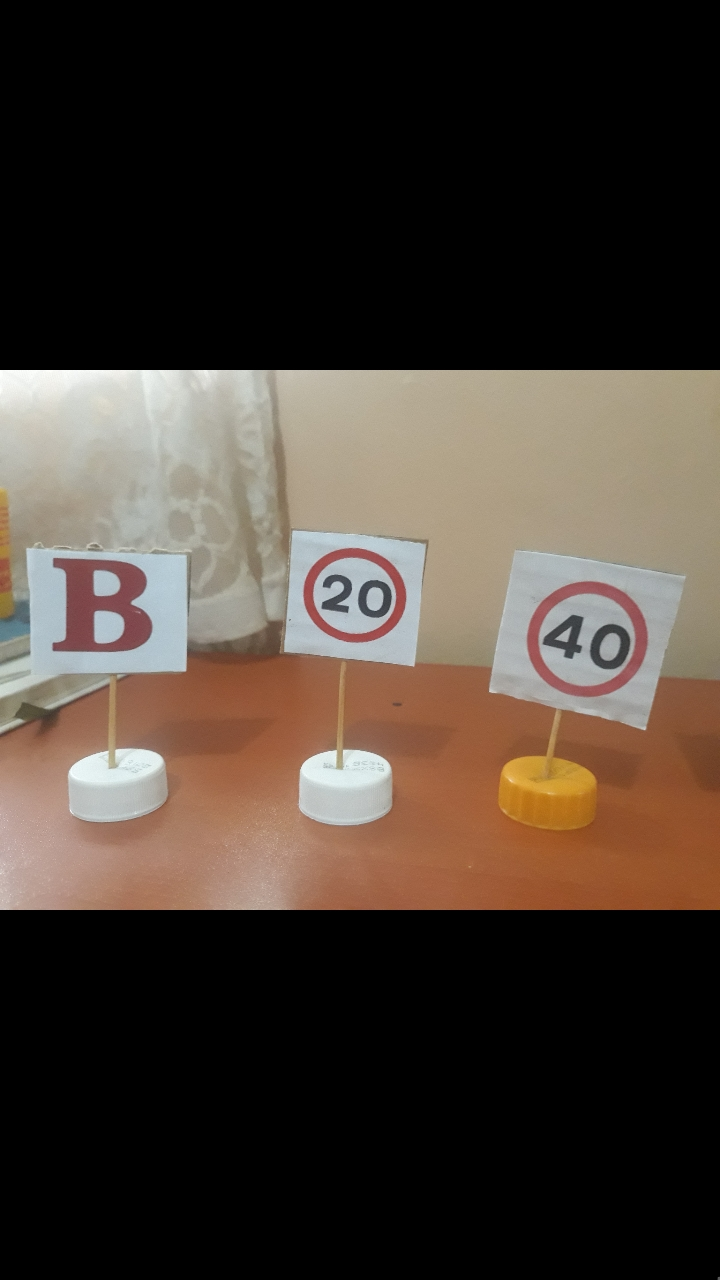20 kph: (291, 537, 414, 661)
40 kph: (514, 549, 655, 721)
zone B: (36, 549, 185, 668)
